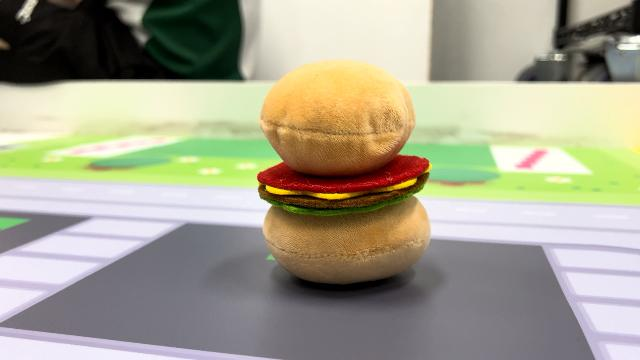burger: (250, 55, 438, 287)
